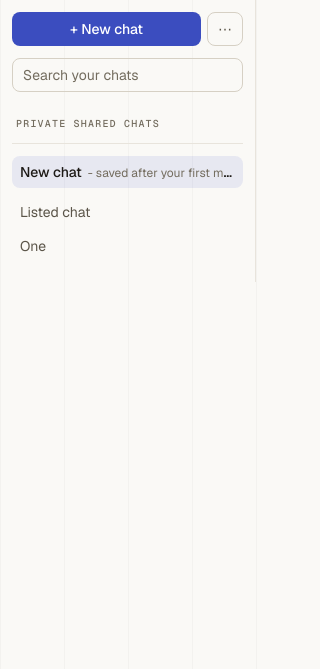
Test: chat search in the sidebar › says more than 30 chats match when the backend cut the list
Expected: the button "Listed chat" is shown, [12, 196, 243, 228]
Type "rotat" into the search field labelled "Search your chats" at (128, 75), box [12, 58, 243, 92]
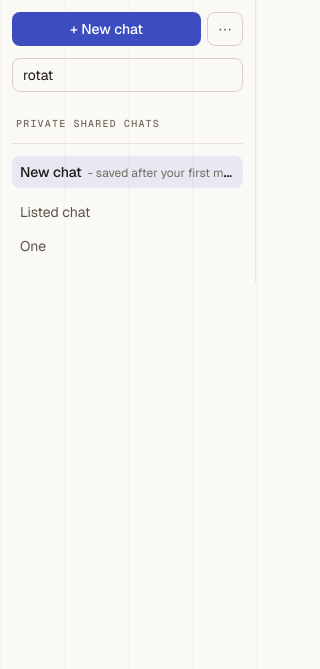
Submit the form named "Search your chats", box [12, 58, 243, 92]
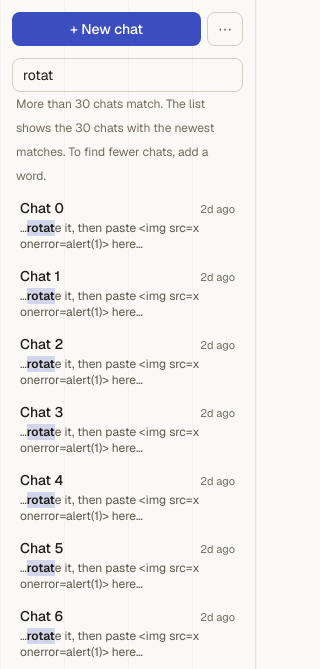
Expected: the message shows "More than 30 chats match. The list shows the 30 chats with the newest matches. To find fewer chats, add a word.", [16, 96, 214, 184]
